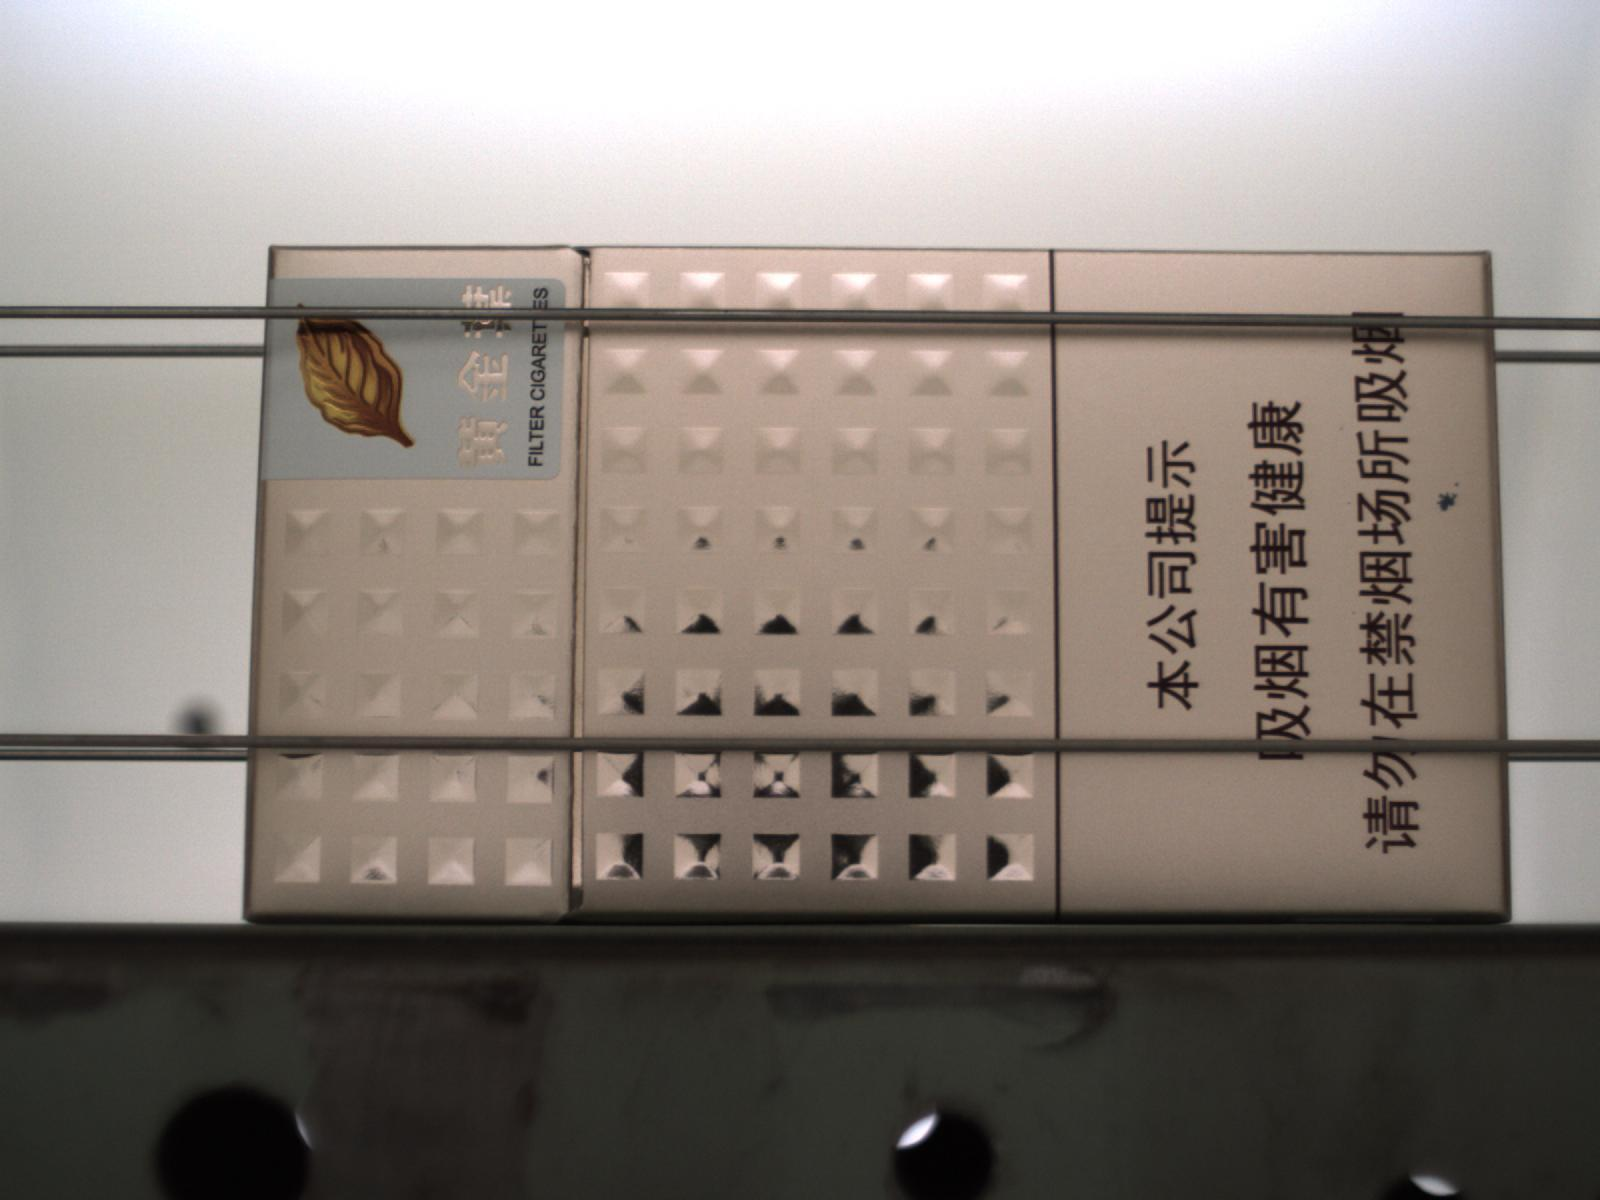dirtyOil: (1437, 488, 1459, 512)
dirtySpot: (1338, 424, 1349, 434)
